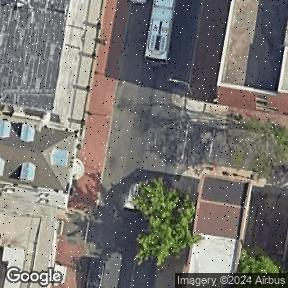vegetation: (135, 177, 199, 266), (239, 247, 283, 273)
